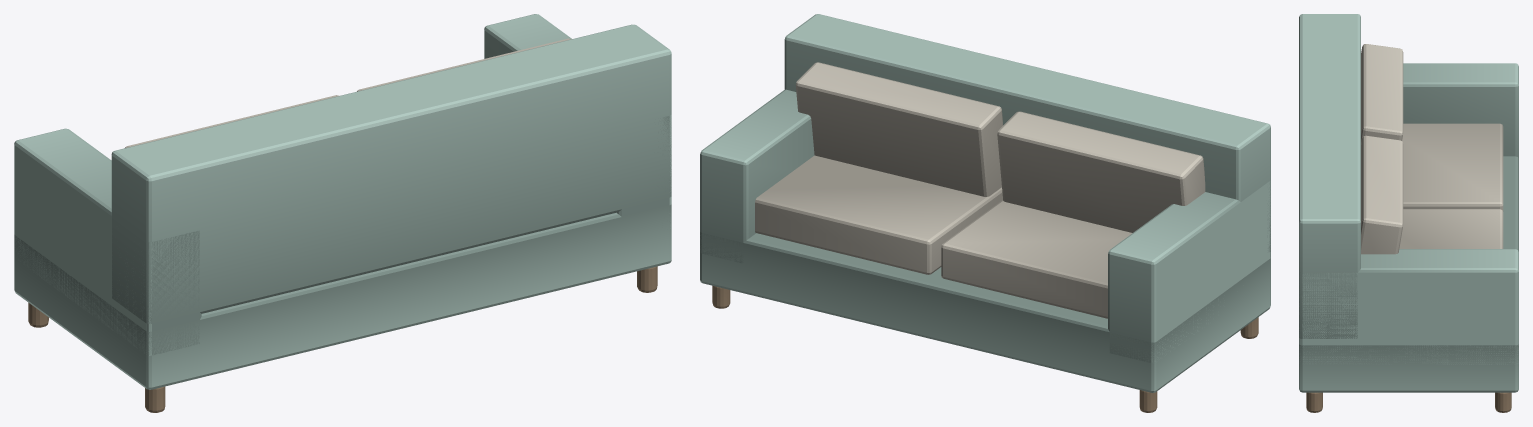
File: furn_sofa__mint.glb
The picture shows the model from 3 angles, left to right: view 1: azimuth 30°, elevation 25°; view 2: azimuth 150°, elevation 25°; view 3: azimuth 270°, elevation 25°; orthographic projection. The views are drawn at different scales.
Size of the model in its own units: 1.9 by 0.84 by 0.85.
